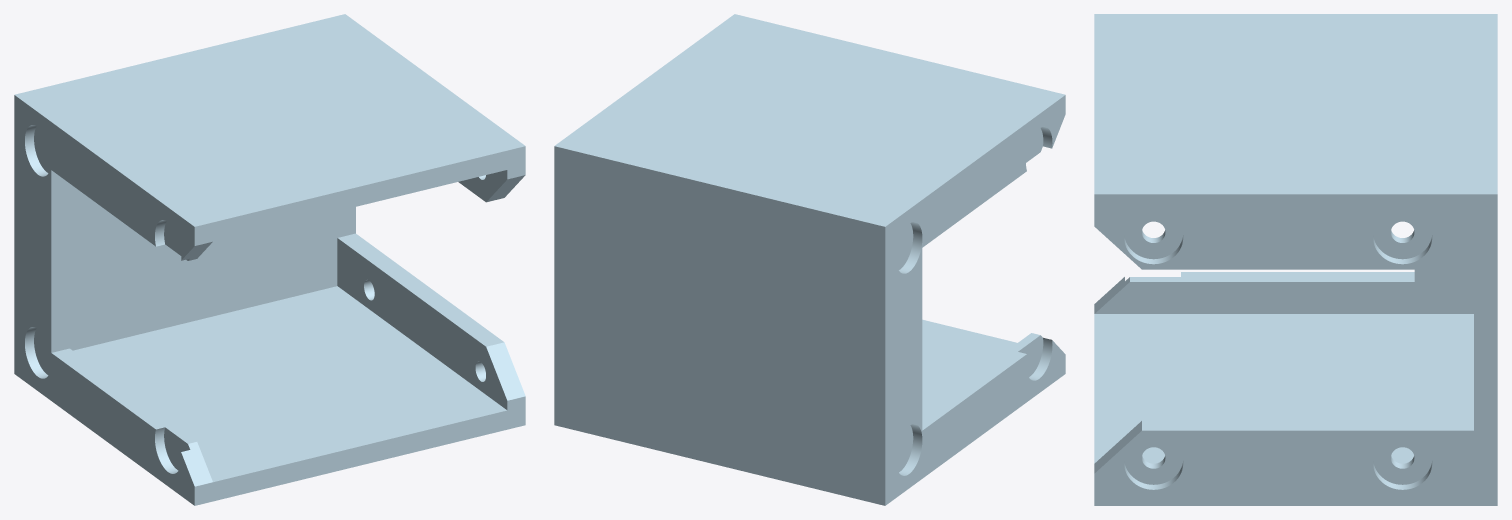
3 views of the same model, side by side, from view 1: azimuth 30°, elevation 25°; view 2: azimuth 150°, elevation 25°; view 3: azimuth 270°, elevation 25° (orthographic). The views are drawn at different scales.
Parts seen in each view (by area): view 1: mesh93, mesh107, mesh113, mesh91, mesh127, mesh108, mesh110, mesh95, mesh112, mesh96, mesh111, mesh97 (+2 smaller); view 2: mesh94, mesh93, mesh91, mesh107, mesh96; view 3: mesh93, mesh123, mesh107, mesh106, mesh112, mesh96, mesh129, mesh125, mesh121, mesh118, mesh111.
Boxes of the visible parts, x1,y1,x2,y2 form: mesh93: [14, 14, 525, 226]; mesh107: [73, 286, 506, 482]; mesh113: [69, 184, 355, 350]; mesh91: [14, 95, 194, 505]; mesh127: [337, 238, 507, 409]; mesh108: [194, 396, 525, 505]; mesh110: [194, 146, 525, 245]; mesh95: [51, 170, 69, 352]; mesh112: [338, 233, 503, 346]; mesh96: [52, 348, 196, 443]; mesh111: [486, 342, 525, 400]; mesh97: [181, 442, 212, 486]; mesh94: [554, 146, 885, 505]; mesh93: [554, 14, 1065, 226]; mesh91: [885, 95, 1065, 505]; mesh107: [922, 319, 1016, 412]; mesh96: [922, 333, 1040, 430]; mesh93: [1094, 14, 1497, 194]; mesh123: [1094, 194, 1497, 505]; mesh107: [1094, 314, 1473, 463]; mesh106: [1095, 269, 1473, 313]; mesh112: [1142, 420, 1473, 430]; mesh96: [1130, 272, 1414, 281]; mesh129: [1124, 436, 1182, 484]; mesh125: [1373, 436, 1431, 484]; mesh121: [1373, 210, 1431, 259]; mesh118: [1124, 210, 1182, 259]; mesh111: [1094, 421, 1141, 473].
Bounding box in the file's own units: 0.036 × 0.029 × 0.034.
